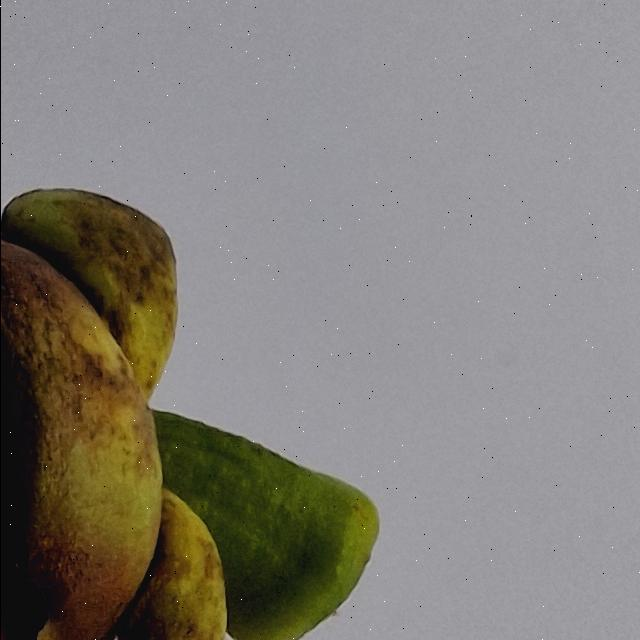mangosteen: (0, 0, 380, 640)
